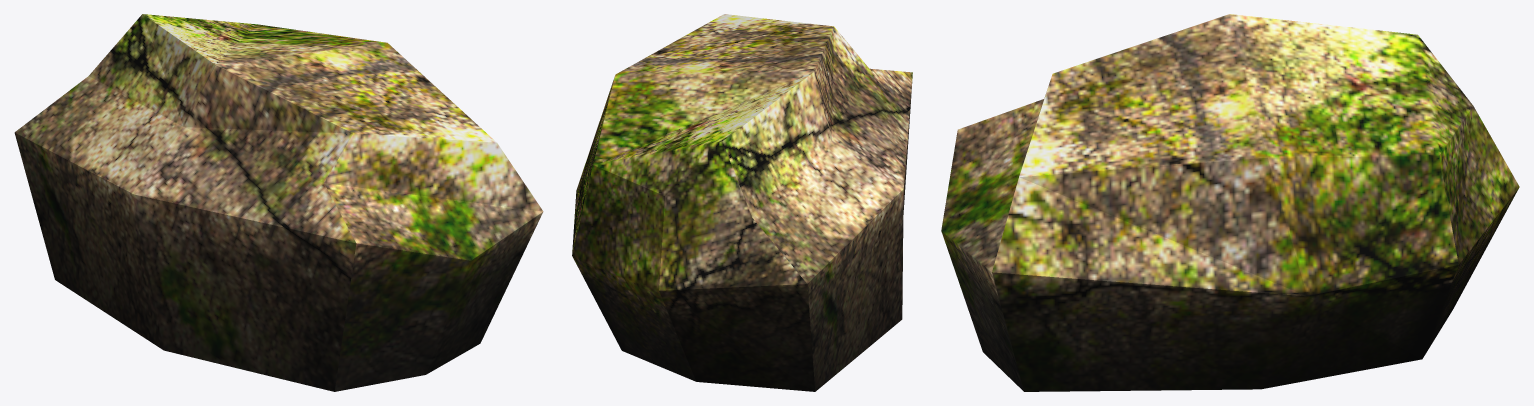
File: rock_012.dae
3 views of the same model, side by side, from view 1: azimuth 30°, elevation 25°; view 2: azimuth 150°, elevation 25°; view 3: azimuth 270°, elevation 25° (orthographic). The views are drawn at different scales.
Visible parts, largest first — view 1: Mesh_Object; view 2: Mesh_Object; view 3: Mesh_Object.
Part boxes in pixels (x1,y1,x2,y2): Mesh_Object: [14, 14, 543, 391]; Mesh_Object: [572, 14, 912, 391]; Mesh_Object: [941, 14, 1519, 391].
Bounding box in the file's own units: 1.56 × 1.18 × 2.19.
